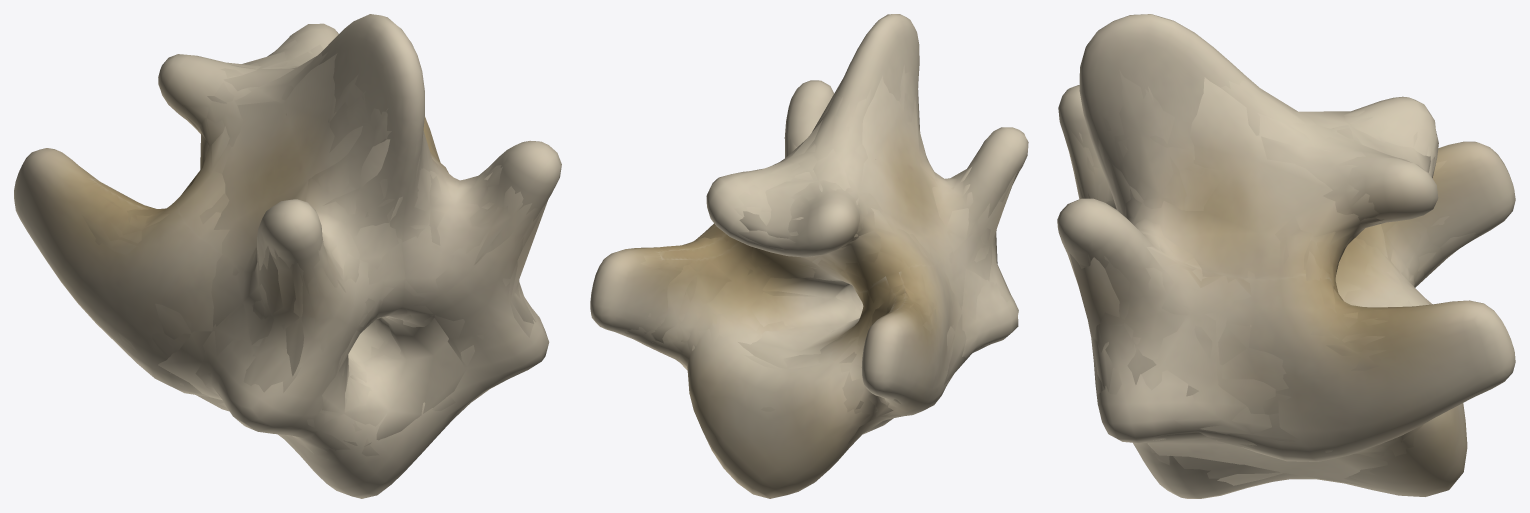
Rendered from vertebrae thoracicae 12.fbx.
The picture shows the model from 3 angles, left to right: view 1: azimuth 30°, elevation 25°; view 2: azimuth 150°, elevation 25°; view 3: azimuth 270°, elevation 25°; orthographic projection. The views are drawn at different scales.
Parts seen in each view (by area): view 1: vertebrae thoracicae 12 high, vertebrae thoracicae 12 low, vertebrae thoracicae 12; view 2: vertebrae thoracicae 12 high, vertebrae thoracicae 12 low, vertebrae thoracicae 12; view 3: vertebrae thoracicae 12 high, vertebrae thoracicae 12, vertebrae thoracicae 12 low.
Boxes of the visible parts, left/top/right/bottom form: vertebrae thoracicae 12 high: left=14, top=14, right=561, bottom=498; vertebrae thoracicae 12 low: left=127, top=52, right=547, bottom=450; vertebrae thoracicae 12: left=81, top=31, right=545, bottom=460; vertebrae thoracicae 12 high: left=590, top=14, right=1028, bottom=498; vertebrae thoracicae 12 low: left=651, top=75, right=1014, bottom=442; vertebrae thoracicae 12: left=615, top=65, right=1019, bottom=447; vertebrae thoracicae 12 high: left=1057, top=14, right=1515, bottom=498; vertebrae thoracicae 12: left=1065, top=69, right=1477, bottom=488; vertebrae thoracicae 12 low: left=1069, top=77, right=1449, bottom=485.
Bounding box in the file's own units: 6.09 × 7.6 × 6.56.
